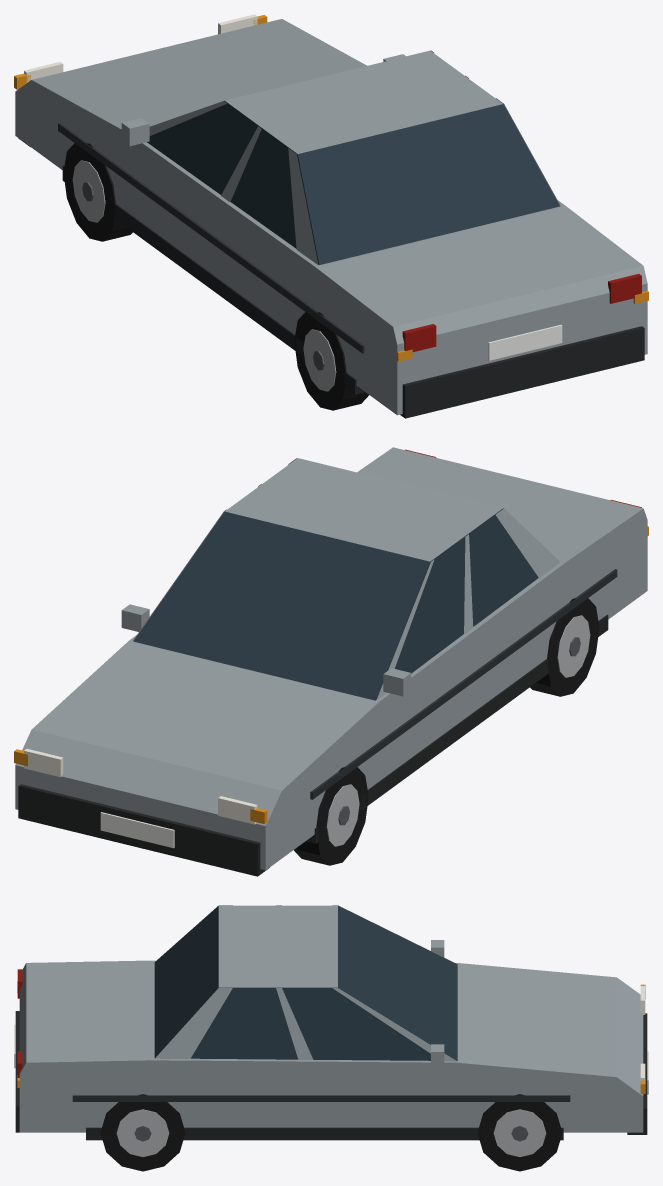
File: sedan.glb
The picture shows the model from 3 angles, top to bottom: view 1: azimuth 30°, elevation 25°; view 2: azimuth 150°, elevation 25°; view 3: azimuth 270°, elevation 25°; orthographic projection. The views are drawn at different scales.
Parts seen in each view (by area): view 1: Sedan, TailL, TailR; view 2: Sedan, HeadR, HeadL; view 3: Sedan.
Part boxes in pixels (left/top/right/bottom): Sedan: left=15, top=19, right=647, bottom=418; TailL: left=402, top=324, right=436, bottom=351; TailR: left=608, top=274, right=641, bottom=303; Sedan: left=15, top=447, right=647, bottom=876; HeadR: left=24, top=748, right=63, bottom=777; HeadL: left=218, top=796, right=257, bottom=824; Sedan: left=14, top=905, right=648, bottom=1171.
Size of the model in its own units: 2 by 1.45 by 4.78.
